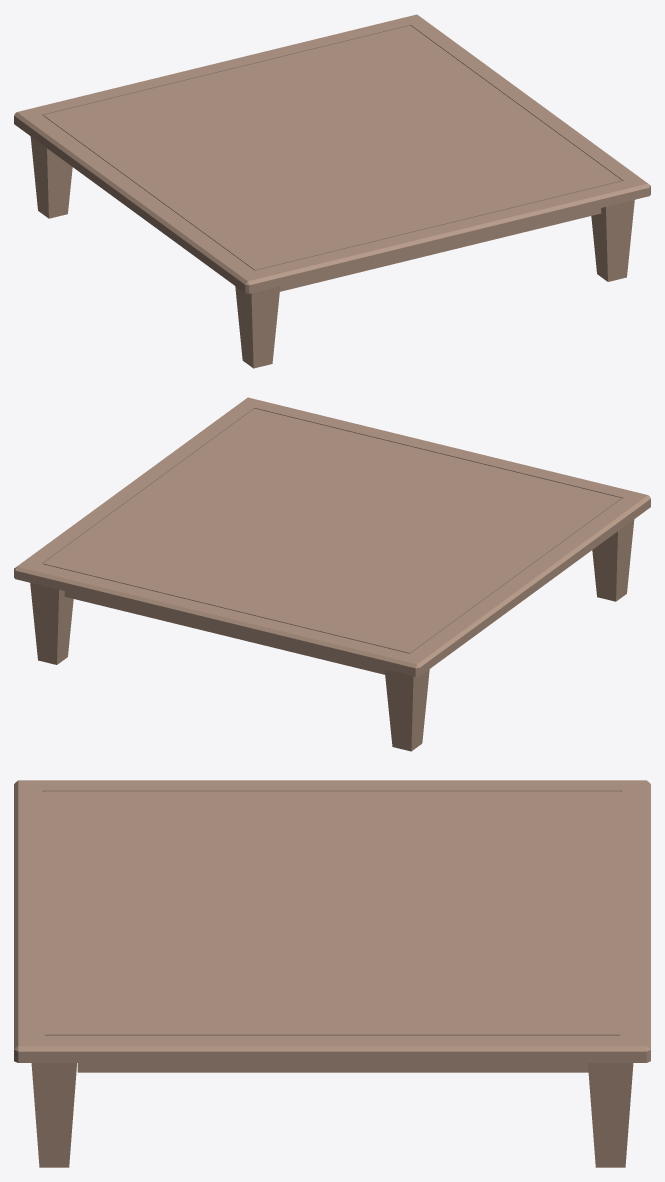
The model's file is 010_大きめローテーブル.glb.
3 views of the same model, one above another, from view 1: azimuth 30°, elevation 25°; view 2: azimuth 150°, elevation 25°; view 3: azimuth 270°, elevation 25° (orthographic). The views are drawn at different scales.
Parts seen in each view (by area): view 1: Body; view 2: Body; view 3: Body.
Part boxes in pixels (x1,y1,x2,y2): Body: (14,14,650,368); Body: (14,397,650,751); Body: (14,780,650,1167).
Bounding box in the file's own units: 1.5 × 0.34 × 1.5.
